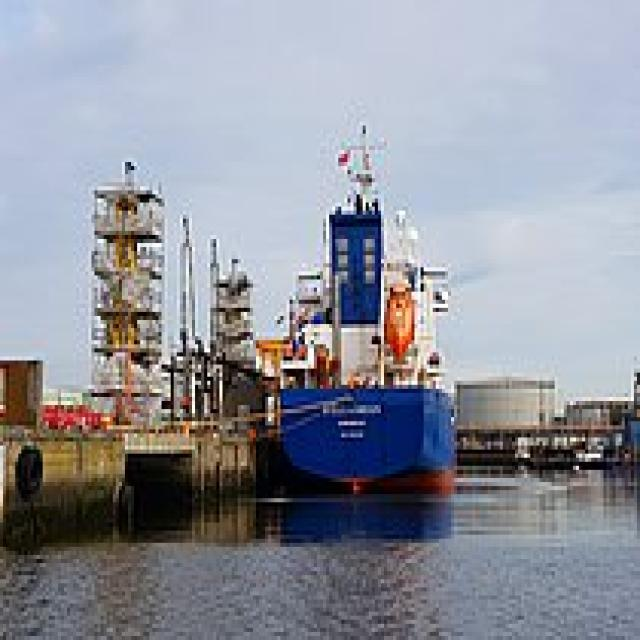Tanker: (271, 118, 457, 498)
